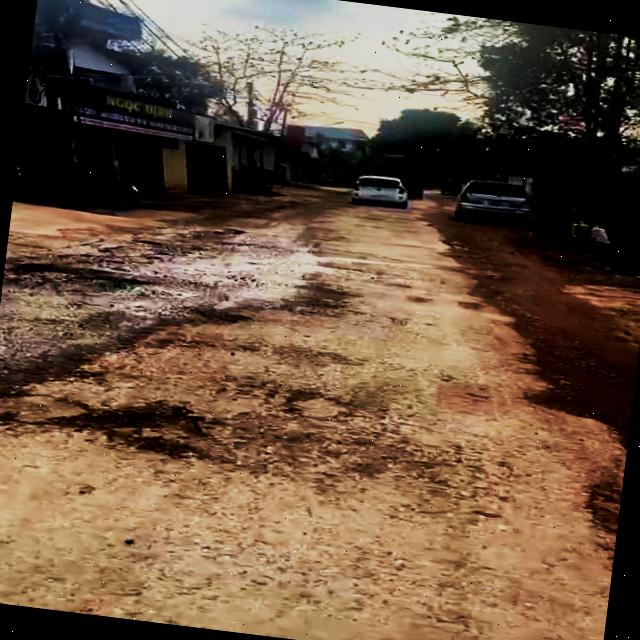pothole: (30, 388, 218, 464), (271, 382, 356, 424)
